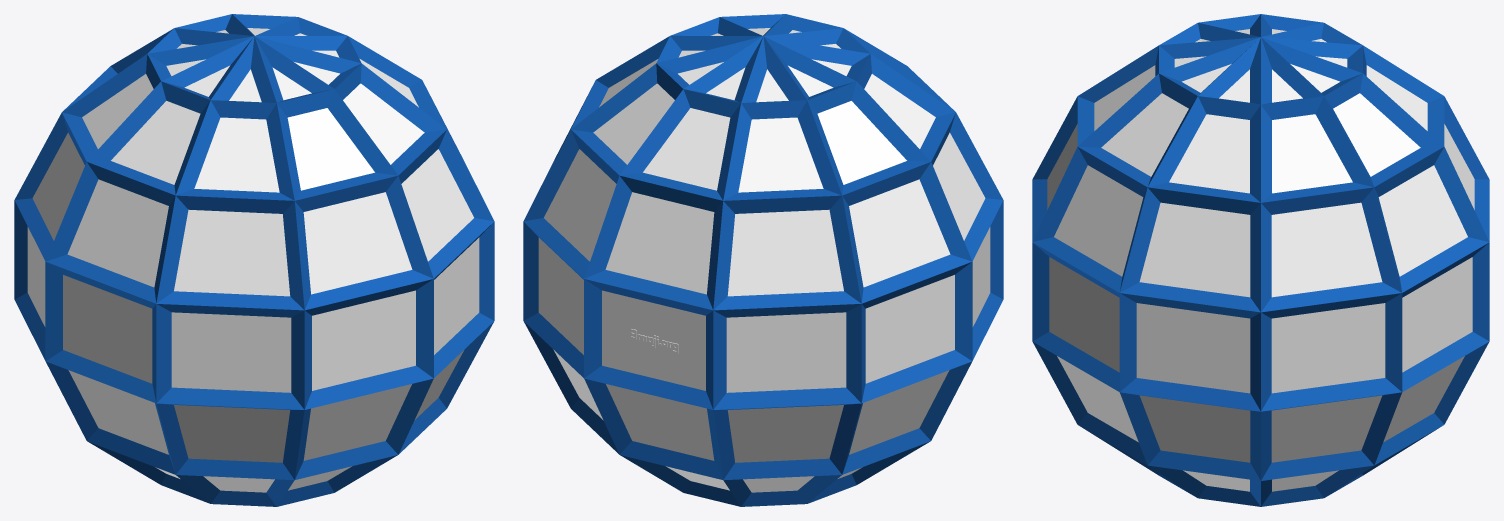
Rendered from globe_with_meridians.fbx.
The picture shows the model from 3 angles, left to right: view 1: azimuth 30°, elevation 25°; view 2: azimuth 150°, elevation 25°; view 3: azimuth 270°, elevation 25°; orthographic projection.
Parts seen in each view (by area): view 1: Sphere.395; view 2: Sphere.395; view 3: Sphere.395.
Part boxes in pixels (box(x1,y1,x2,y2)): Sphere.395: box(14, 14, 494, 506); Sphere.395: box(523, 14, 1003, 506); Sphere.395: box(1032, 14, 1489, 506).
Bounding box in the file's own units: 204 × 209 × 194.
1 material, 1 textured.
